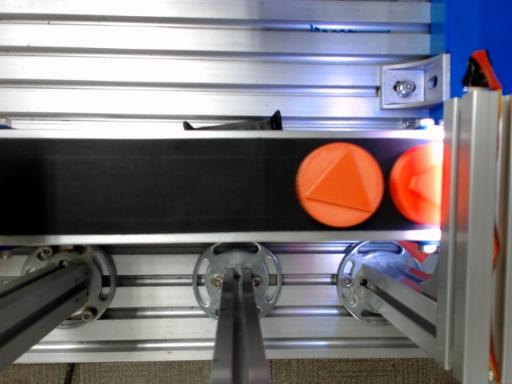Orange_Waper: (296, 142, 384, 227), (390, 142, 442, 225)
